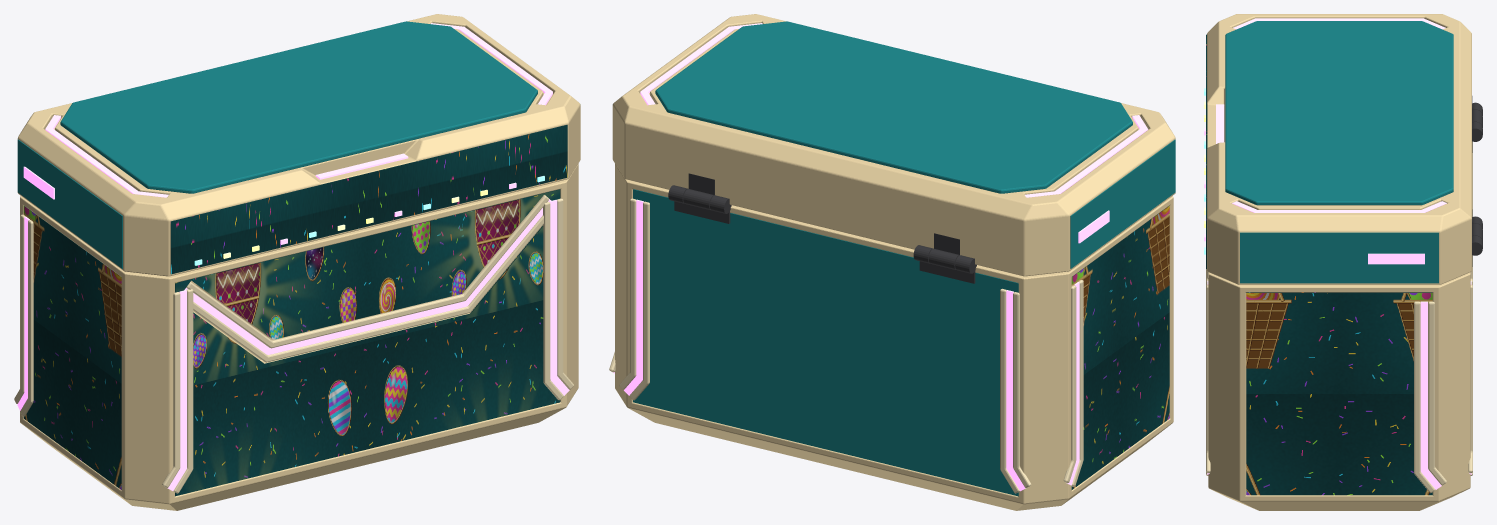
File: eggs.glb
The picture shows the model from 3 angles, left to right: view 1: azimuth 30°, elevation 25°; view 2: azimuth 150°, elevation 25°; view 3: azimuth 270°, elevation 25°; orthographic projection. The views are drawn at different scales.
Visible parts, largest first — view 1: PlateFB, LidTopPanel, BodyCore, LidBand, LidFrontPlate, PlateSide, LidSidePlate, Rail_5, Rail_4, LedPath_3, Rail_16, LedPath_15 (+9 smaller); view 2: PlateFB.001, LidTopPanel, LidBand, BodyCore, PlateSide, LidSidePlate, Rail_10, Rail_20, LedPath_9, LedPath_18, Rail_11, Rail_19 (+5 smaller); view 3: LidTopPanel, PlateSide.001, BodyCore, LidBand, LidSidePlate.001, LedPath_21, Rail_22, Rail_23, LedPath_27, LedPath_30, LedPath_26, Rail_17 (+2 smaller).
Part boxes in pixels (x1,y1,x2,y2): PlateFB: (175,189,560,496); LidTopPanel: (60,21,537,193); BodyCore: (20,163,578,510); LidBand: (17,14,580,276); LidFrontPlate: (170,125,567,274); PlateSide: (23,206,121,489); LidSidePlate: (17,139,122,268); Rail_5: (186,195,548,348); Rail_4: (193,215,543,362); LedPath_3: (184,199,550,354); Rail_16: (543,201,563,400); LedPath_15: (549,199,569,395); PlateFB.001: (633,189,1018,496); LidTopPanel: (655,21,1132,193); LidBand: (612,14,1175,276); BodyCore: (615,164,1173,510); PlateSide: (1071,205,1169,489); LidSidePlate: (1070,139,1175,268); Rail_10: (1000,288,1019,493); Rail_20: (629,201,649,400); LedPath_9: (1006,290,1025,491); LedPath_18: (624,199,643,395); Rail_11: (1013,292,1031,487); Rail_19: (619,198,636,389); LidTopPanel: (1225,21,1453,205); PlateSide.001: (1246,292,1432,495); BodyCore: (1208,272,1470,510); LidBand: (1207,14,1471,284); LidSidePlate.001: (1240,232,1438,283); LedPath_21: (1420,301,1441,489); Rail_22: (1414,301,1435,493); Rail_23: (1428,301,1446,485); LedPath_27: (1232,201,1446,212); LedPath_30: (1368,253,1424,264); LedPath_26: (1233,18,1445,29); Rail_17: (1206,284,1210,473).
Size of the model in its own units: 1.78 by 1.17 by 0.978.
13 materials, 3 textured.
